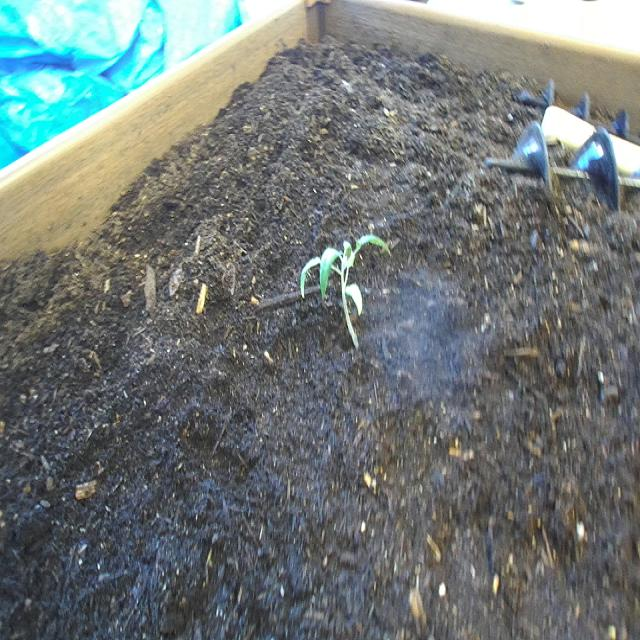Healthy: (297, 223, 398, 367)
